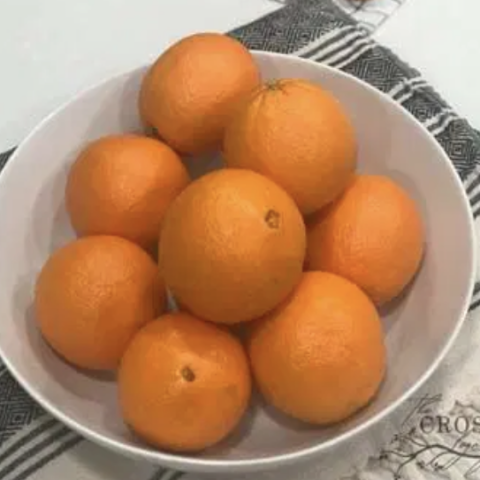orange: (154, 165, 312, 322), (278, 158, 451, 298), (241, 263, 386, 426), (110, 296, 251, 454), (12, 230, 170, 368), (134, 26, 270, 148)
